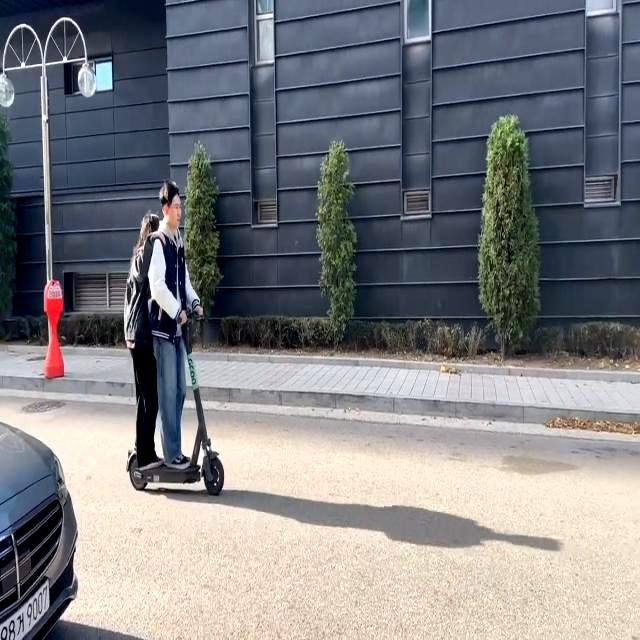bare_head: (156, 182, 187, 225), (133, 215, 162, 245)
human: (147, 182, 199, 469), (118, 214, 167, 465)
kickboard: (120, 441, 230, 500)
